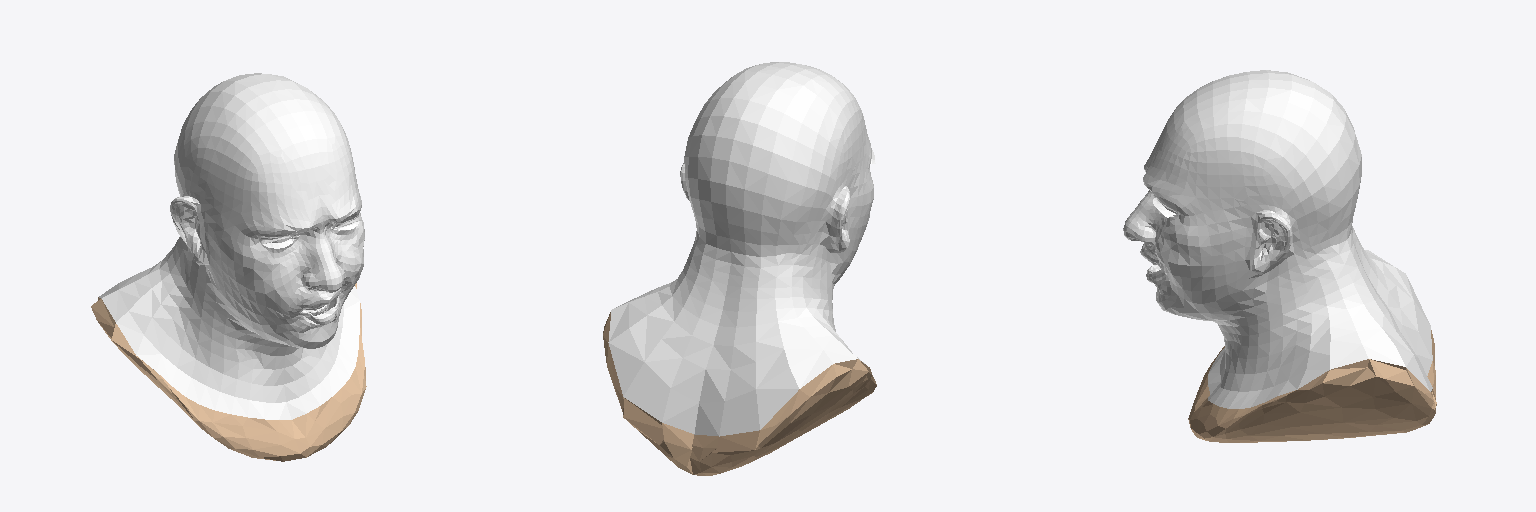
Rendered from Head_sh.obj.
3 renders of one model, left to right at view 1: azimuth 30°, elevation 25°; view 2: azimuth 150°, elevation 25°; view 3: azimuth 270°, elevation 25°, orthographic.
Visible parts, largest first — view 1: BodyParts; view 2: BodyParts; view 3: BodyParts.
Boxes of the visible parts, <box> form: BodyParts: <box>91,73,366,461</box>; BodyParts: <box>603,62,876,475</box>; BodyParts: <box>1123,70,1436,442</box>.
Size of the model in its own units: 27.78 by 38.23 by 30.67.